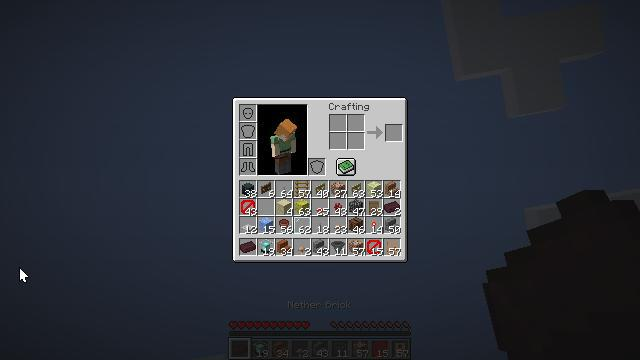cursor: (19, 267, 29, 283)
